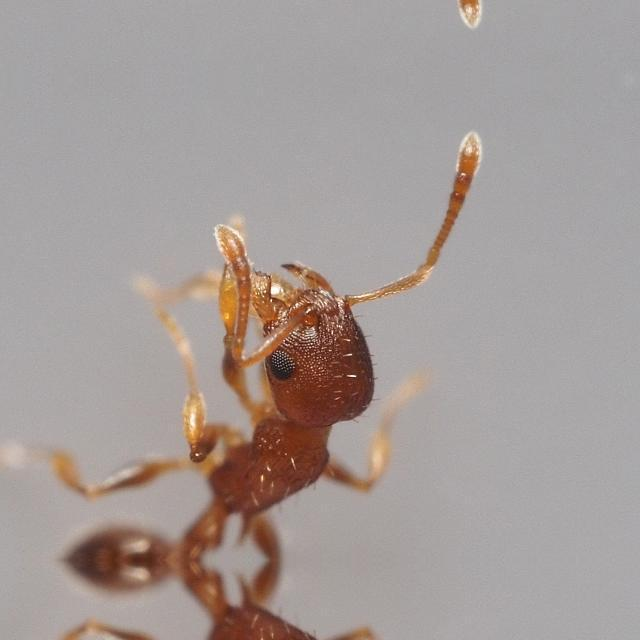Myrmica: (0, 188, 480, 558), (0, 560, 480, 640)
